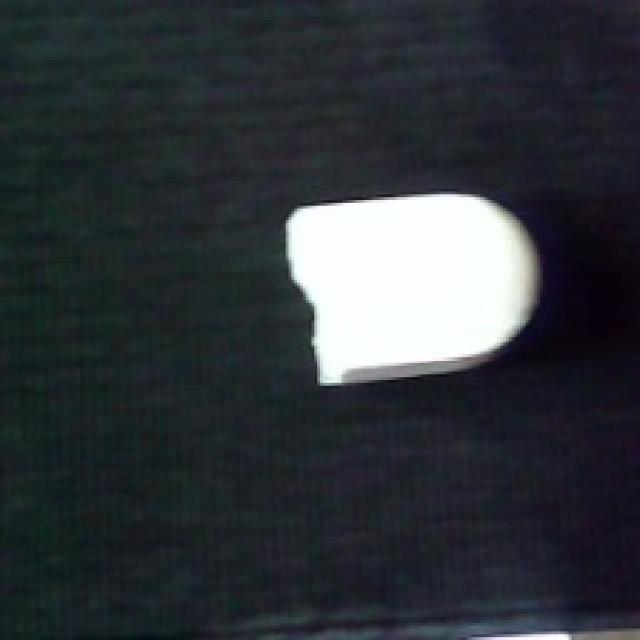defected: (277, 183, 549, 388)
